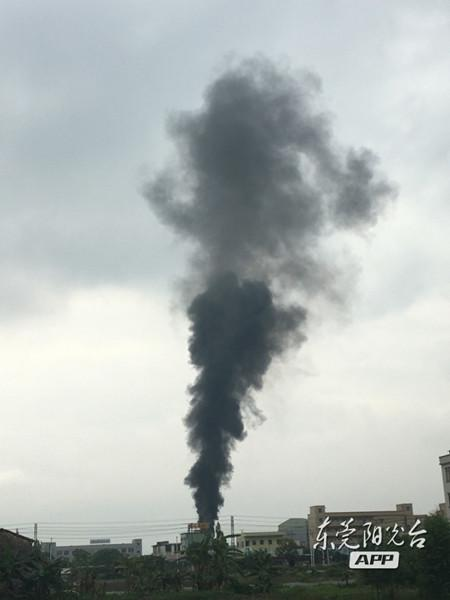smoke: (151, 62, 311, 518)
